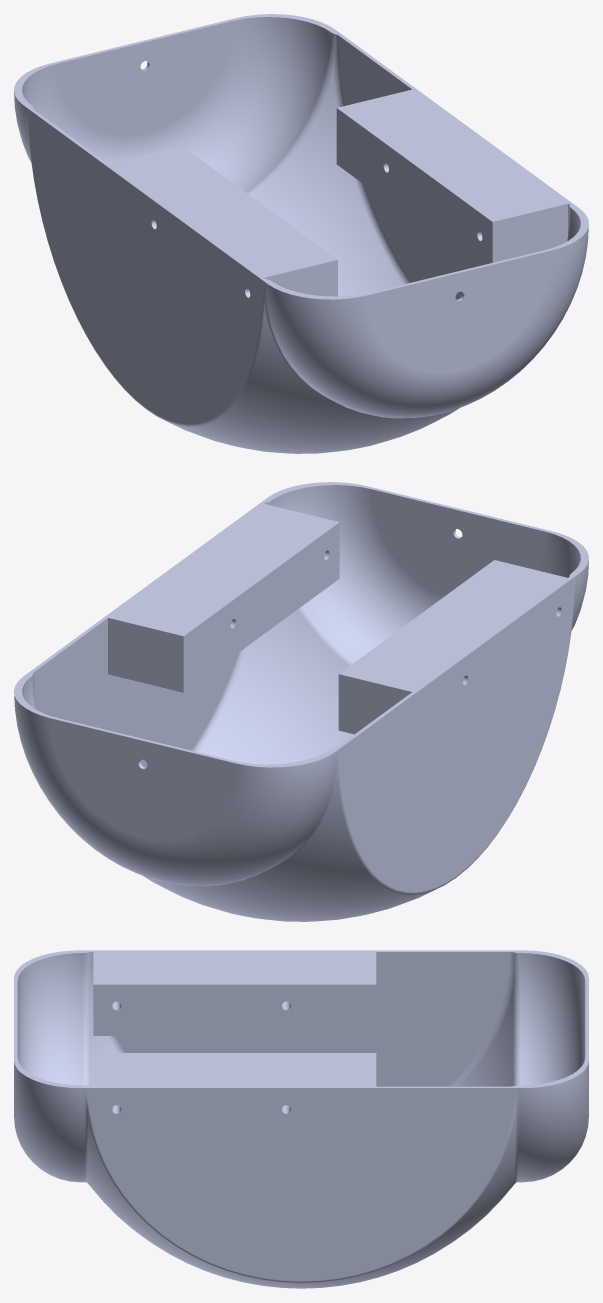
The model's file is outer_yaw.dae.
The picture shows the model from 3 angles, top to bottom: view 1: azimuth 30°, elevation 25°; view 2: azimuth 150°, elevation 25°; view 3: azimuth 270°, elevation 25°; orthographic projection. The views are drawn at different scales.
Visible parts, largest first — view 1: Actor0; view 2: Actor0; view 3: Actor0.
Part boxes in pixels (<box>): Actor0: <box>14,14,588,453</box>; Actor0: <box>14,482,588,921</box>; Actor0: <box>14,950,588,1288</box>.
Size of the model in its own units: 0.173 by 0.143 by 0.305.
